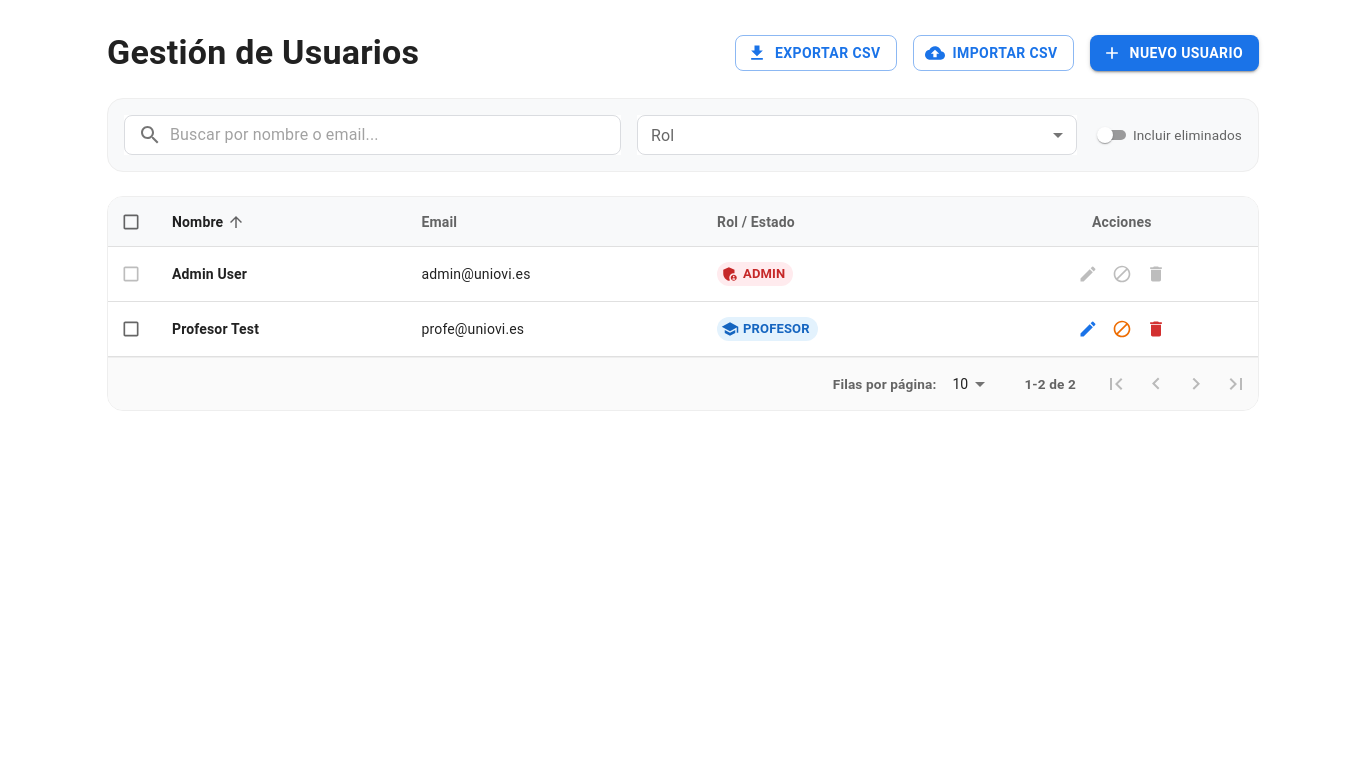
UserList › debe abrir el formulario de edición al pulsar editar en un usuario no protegido
The image size is (1366, 768).
Expected: the text "Profesor Test" is shown, top-left (172, 319), bottom-right (259, 339)
Click the button named "editar". click: coordinates (1088, 329)
box: top-left (1073, 314), bottom-right (1103, 344)
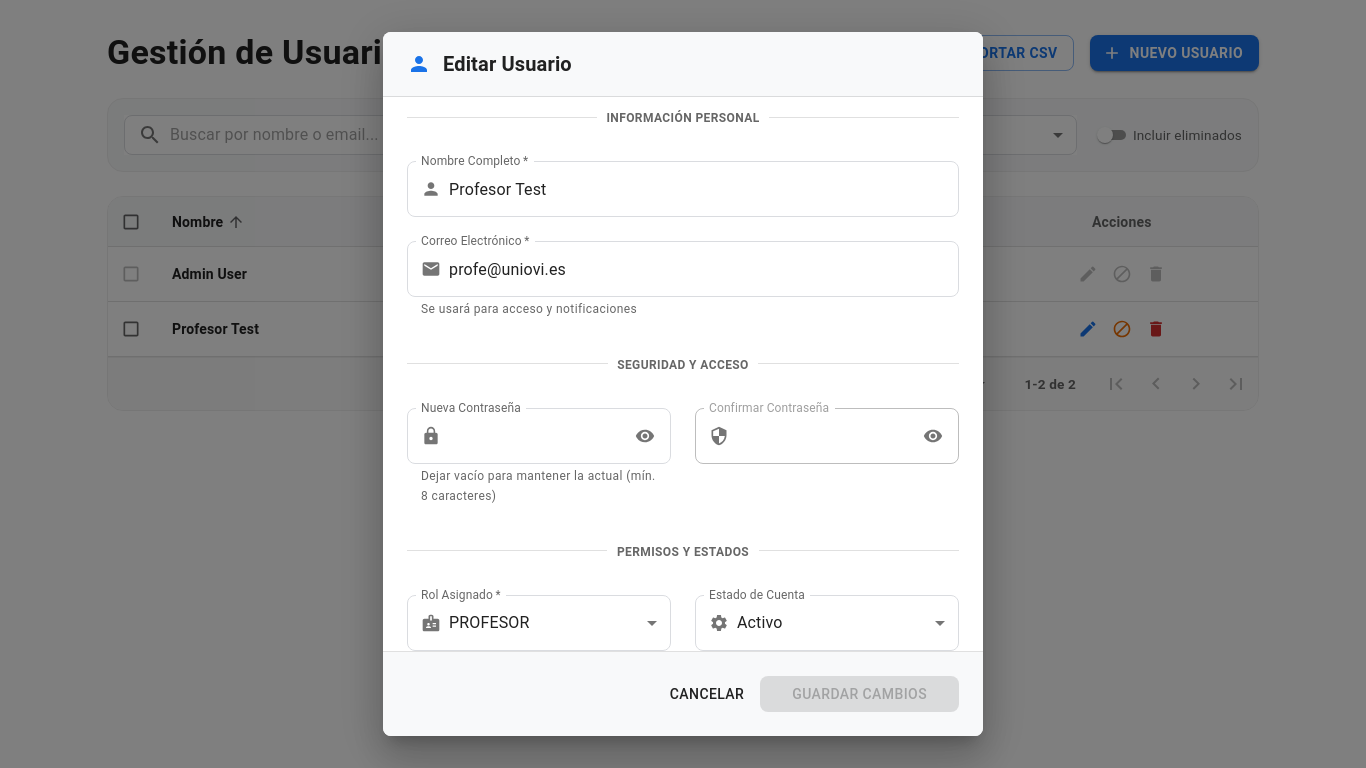
Result: the heading "Editar Usuario" is shown at top-left (383, 32), bottom-right (983, 97)
Result: the field showing "profe@uniovi.es" is shown at top-left (449, 241), bottom-right (959, 297)
